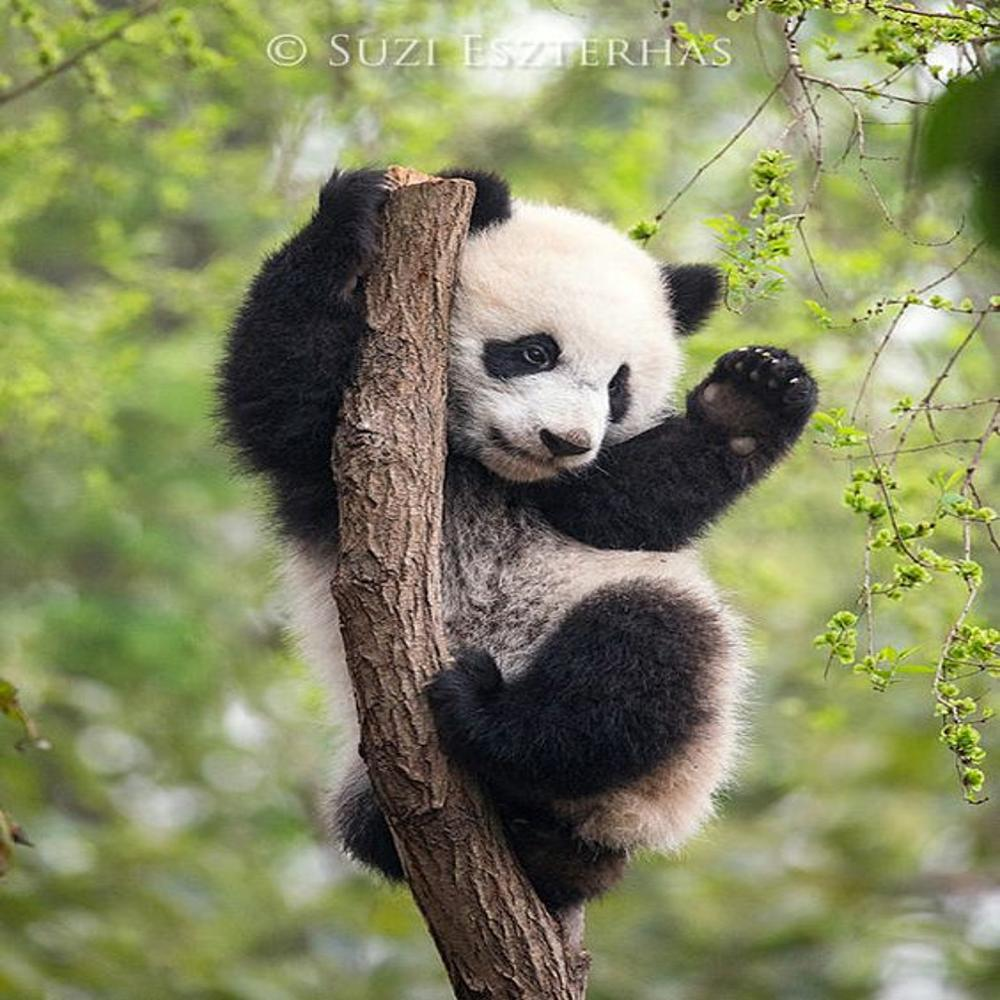panda: (220, 162, 825, 918)
